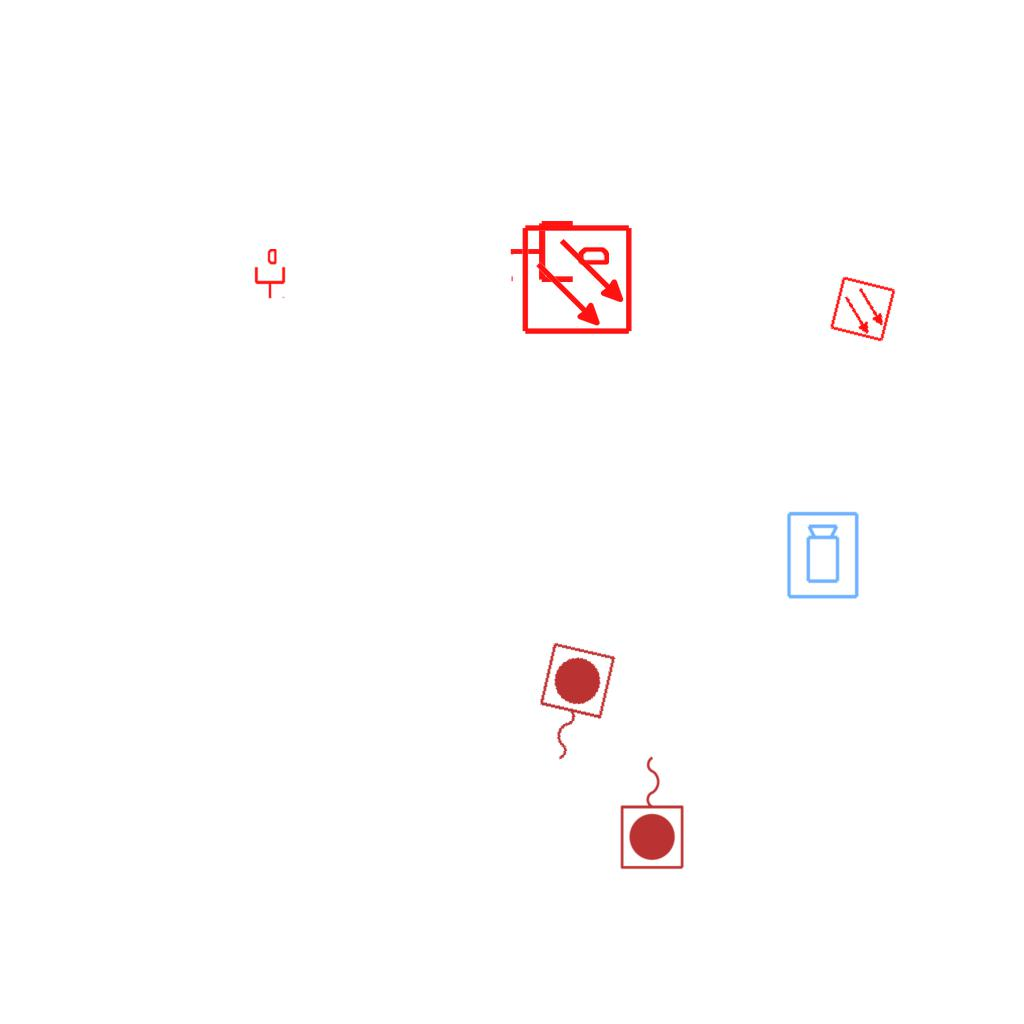Datenanschluss_einfach: (509, 217, 609, 286), (253, 249, 287, 299)
KFO_Kamera_mit_Festobjektiv: (785, 510, 862, 601)
RMO_Rauchmelder_optischer: (521, 223, 634, 336), (829, 275, 897, 343)
Zugtaster: (522, 637, 620, 773), (617, 751, 689, 873)
